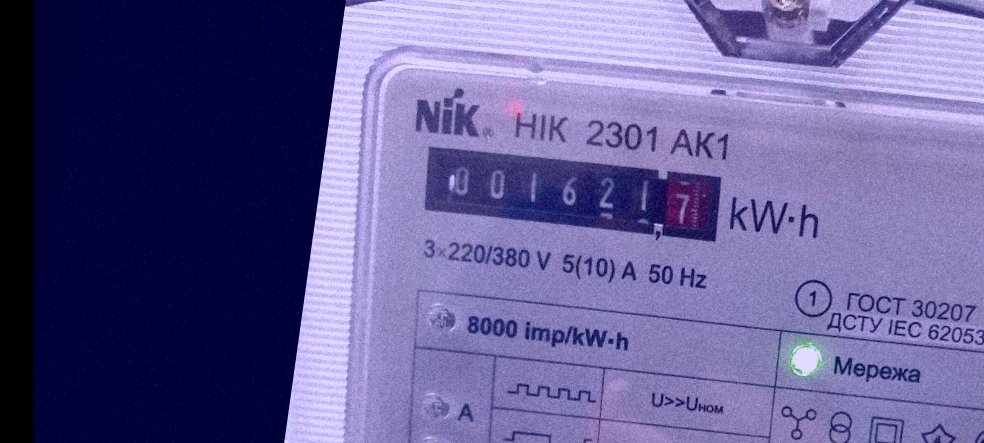0: (485, 164, 512, 203), (450, 161, 475, 197)
1: (525, 167, 544, 205), (636, 175, 655, 213)
2: (596, 173, 621, 212)
6: (559, 172, 582, 208)
7: (669, 188, 694, 227)
screen: (415, 133, 731, 255)
